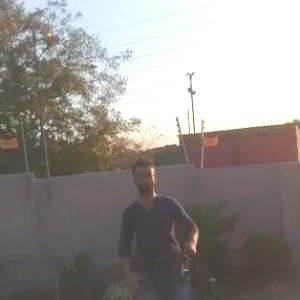follow: (113, 150, 210, 299)
